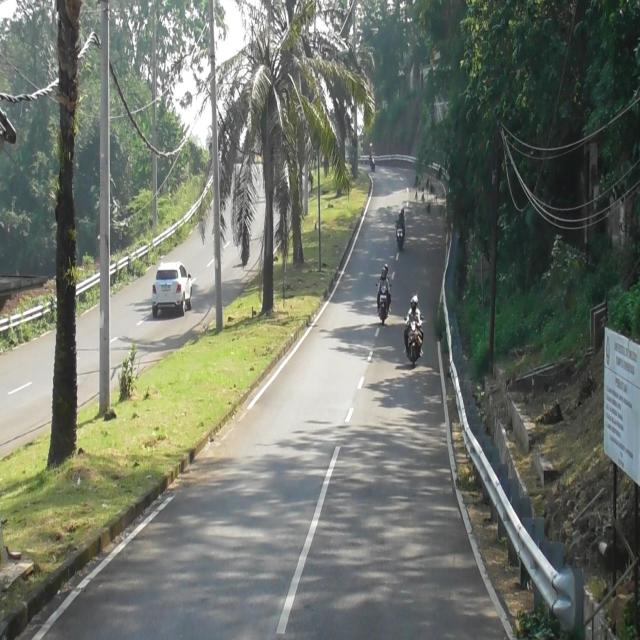motorcycle: (404, 314, 426, 362), (375, 282, 393, 323), (394, 222, 405, 250)
person: (377, 267, 391, 311), (405, 298, 421, 329), (381, 262, 389, 282), (396, 211, 404, 228), (400, 208, 406, 219)
rider_region: (403, 295, 425, 369), (374, 258, 392, 326), (394, 204, 408, 250)
